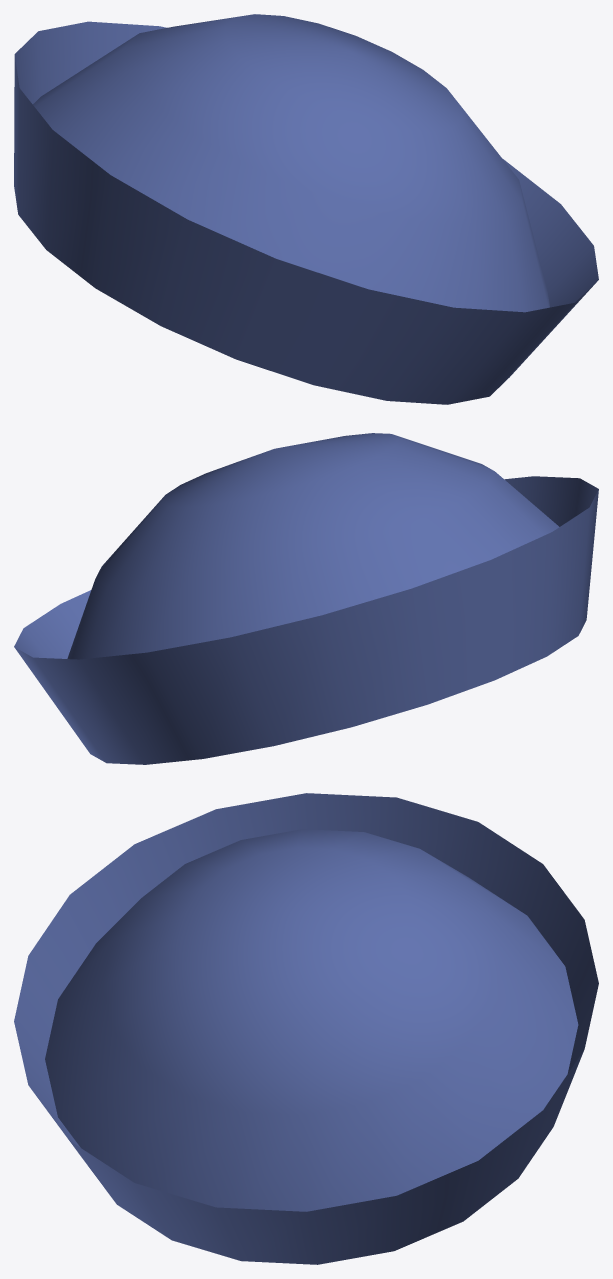
File: duck (sailor) hat tester.fbx
3 views of the same model, one above another, from view 1: azimuth 30°, elevation 25°; view 2: azimuth 150°, elevation 25°; view 3: azimuth 270°, elevation 25° (orthographic). The views are drawn at different scales.
Visible parts, largest first — view 1: polySurface239; view 2: polySurface239; view 3: polySurface239.
Part boxes in pixels (x1=…): polySurface239: x1=14, y1=14, x2=598, y2=404; polySurface239: x1=14, y1=433, x2=598, y2=764; polySurface239: x1=14, y1=793, x2=598, y2=1264.
Bounding box in the file's own units: 0.6912 × 0.4243 × 0.7339.
